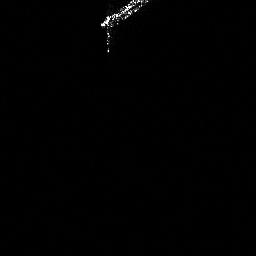ship: (100, 1, 148, 27)
